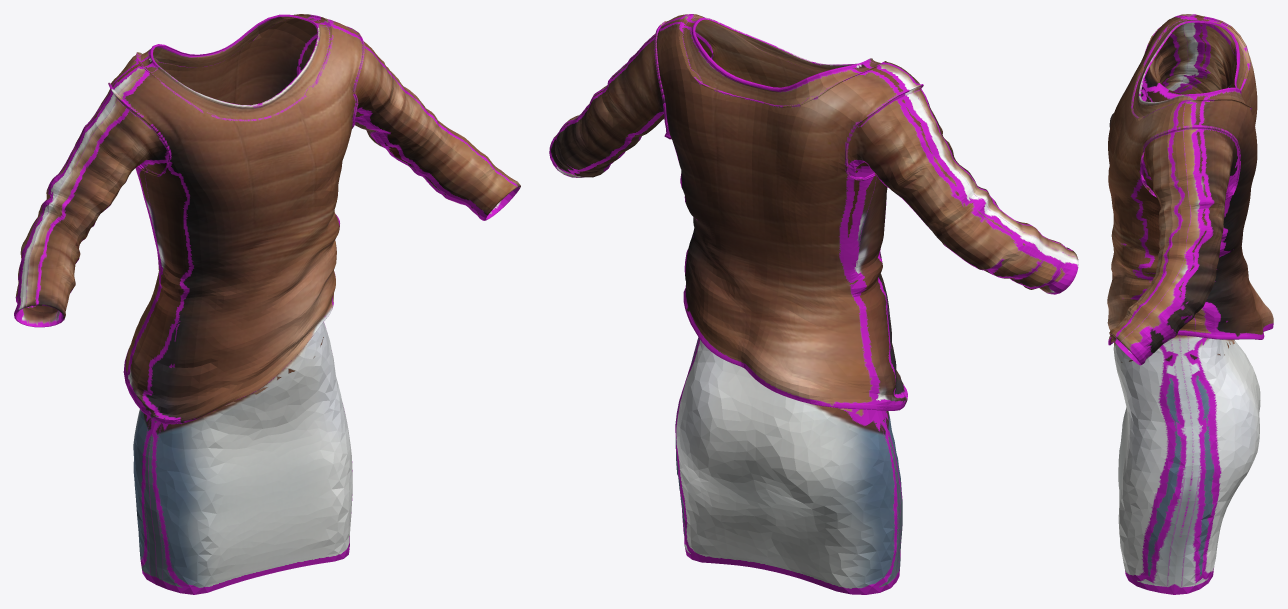
The picture shows the model from 3 angles, left to right: view 1: azimuth 30°, elevation 25°; view 2: azimuth 150°, elevation 25°; view 3: azimuth 270°, elevation 25°; orthographic projection. The views are drawn at different scales.
Size of the model in its own units: 0.8788 by 0.8592 by 0.263.
1 material, 1 textured.
